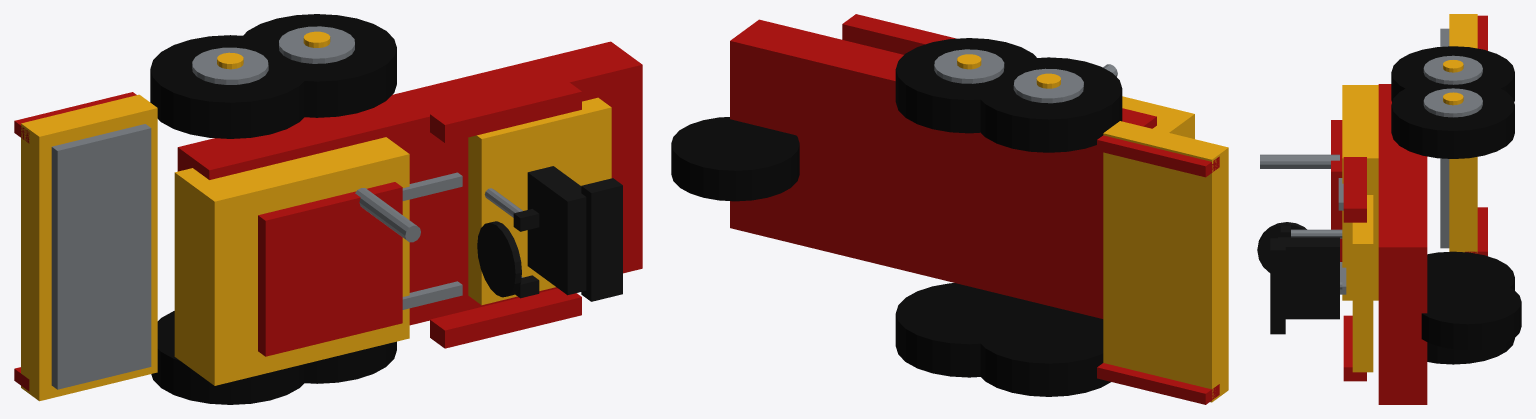
File: roland_h_5x4.obj
3 renders of one model, left to right at view 1: azimuth 30°, elevation 25°; view 2: azimuth 150°, elevation 25°; view 3: azimuth 270°, elevation 25°, orthographic. The views are drawn at different scales.
Size of the model in its own units: 4.06 by 2.14 by 2.05.
